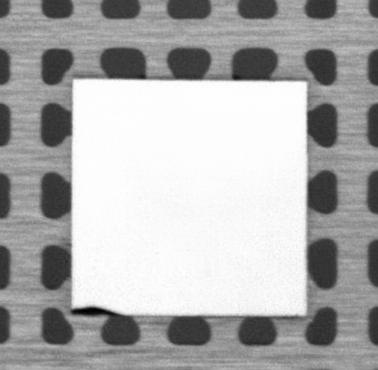DIE_BROKEN: (70, 304, 123, 317)
